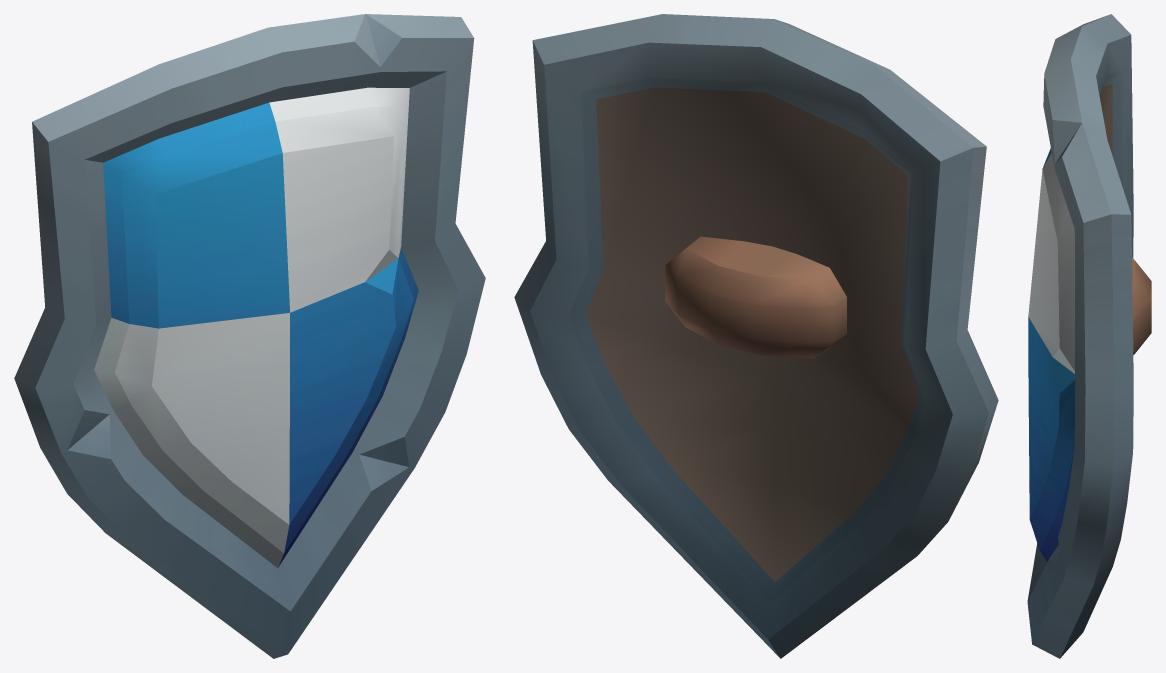
File: shield_b.8fff1962.glb
3 views of the same model, side by side, from view 1: azimuth 30°, elevation 25°; view 2: azimuth 150°, elevation 25°; view 3: azimuth 270°, elevation 25° (orthographic). The views are drawn at different scales.
Visible parts, largest first — view 1: shield_B; view 2: shield_B; view 3: shield_B.
Part boxes in pixels (x1=…): shield_B: x1=14, y1=14, x2=485, y2=658; shield_B: x1=514, y1=14, x2=998, y2=658; shield_B: x1=1027, y1=14, x2=1151, y2=658.
Size of the model in its own units: 1.02 by 1.32 by 0.248.
Materials: 1 (1 with a texture image).
